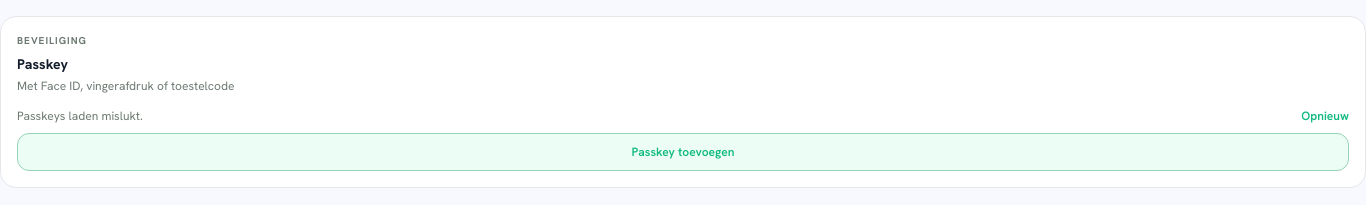
Scenario: Profiel → Beveiliging › onverwachte throw in lijst en registratie zet status terug
Later steps or results of the test are not shown.
Expected: the text "Passkeys laden mislukt." is shown, [17,107,143,125]
Click the button "Opnieuw" at (1325, 116), box [1301,108,1349,124]
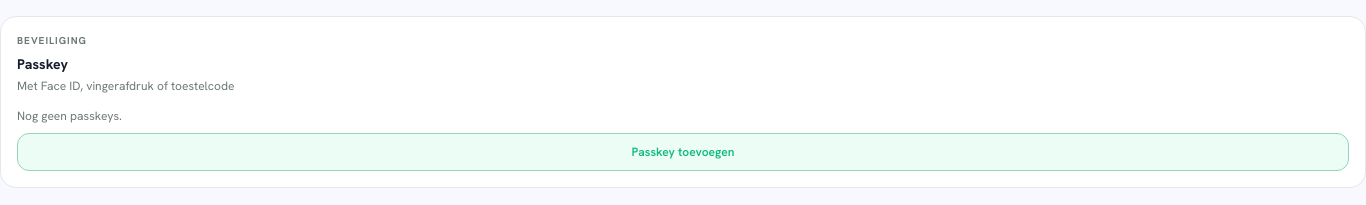
Expected: the text "Nog geen passkeys." is shown, [17,108,122,124]
